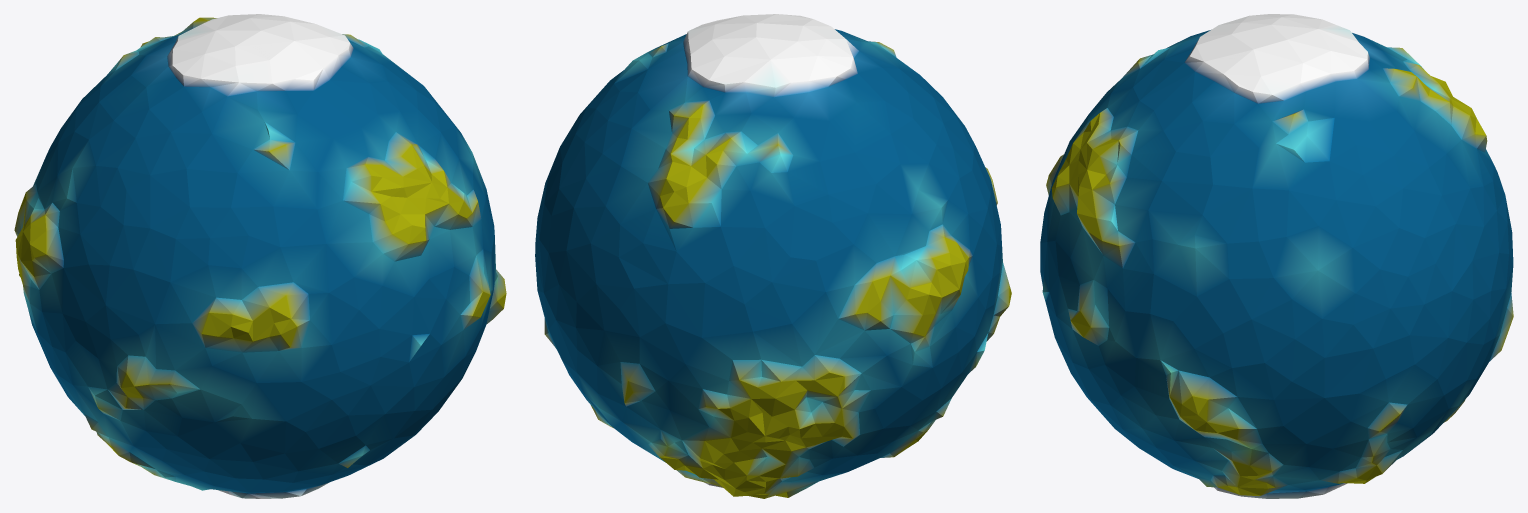
The model's file is planet_57.fbx.
3 views of the same model, side by side, from view 1: azimuth 30°, elevation 25°; view 2: azimuth 150°, elevation 25°; view 3: azimuth 270°, elevation 25° (orthographic).
Visible parts, largest first — view 1: file1; view 2: file1; view 3: file1.
Part boxes in pixels (<box>): file1: <box>14,14,506,498</box>; file1: <box>535,14,1011,498</box>; file1: <box>1040,14,1513,498</box>.
Size of the model in its own units: 2.06 by 2.06 by 2.
